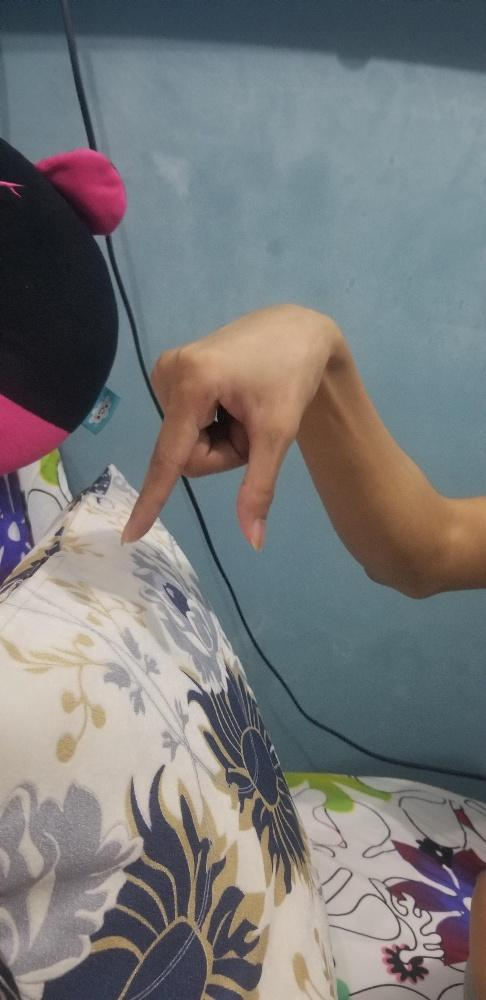q: (117, 299, 346, 552)
